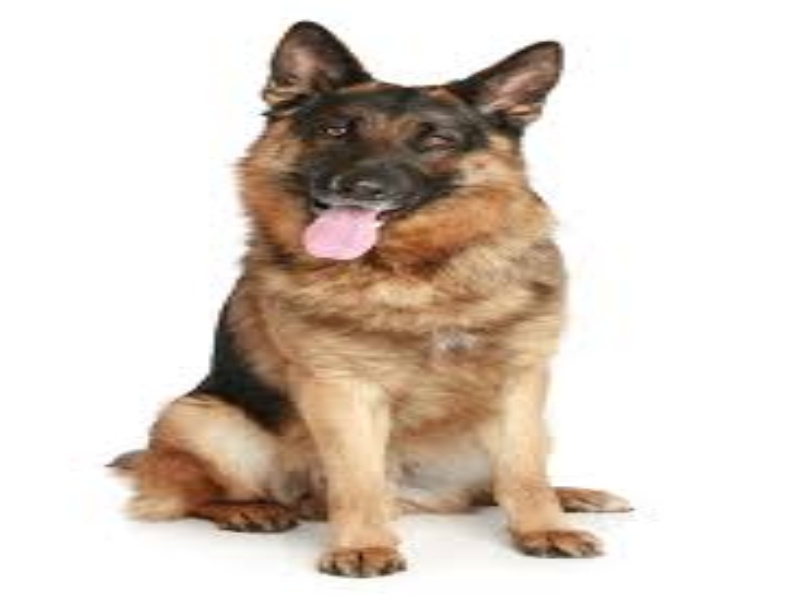dog: (120, 14, 639, 577)
